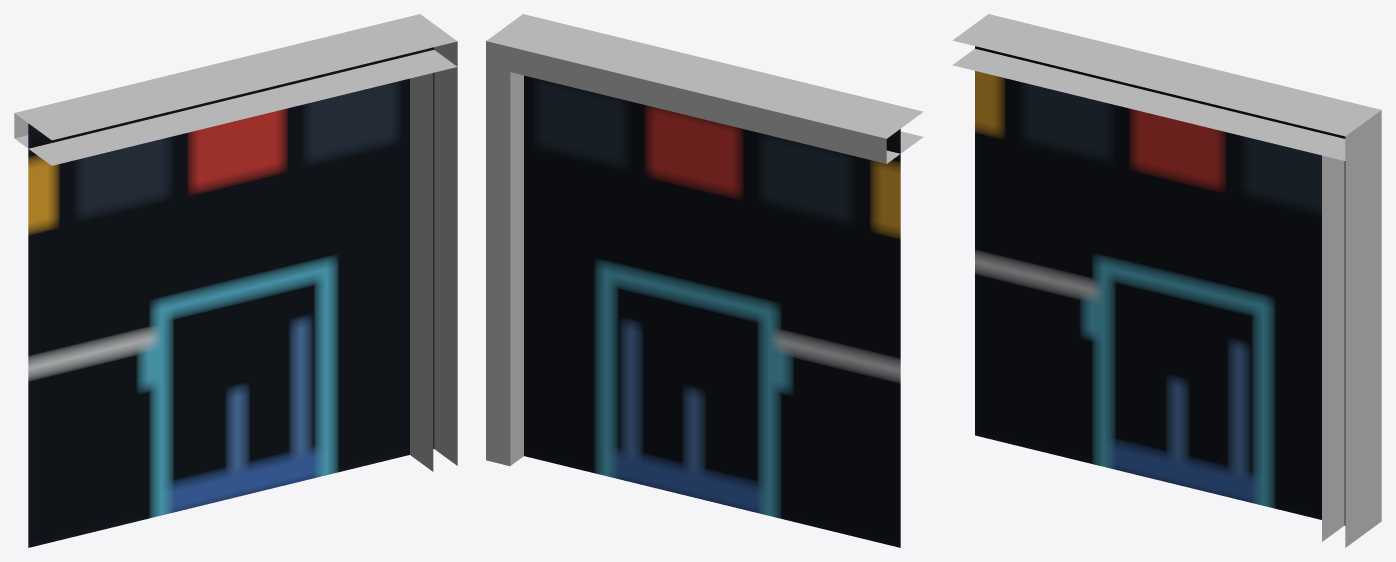
File: wall_display_3x2_21.obj
3 views of the same model, side by side, from view 1: azimuth 30°, elevation 25°; view 2: azimuth 150°, elevation 25°; view 3: azimuth 330°, elevation 25° (orthographic). The views are drawn at different scales.
Visible parts, largest first — view 1: wall_display_3x2_21; view 2: wall_display_3x2_21; view 3: wall_display_3x2_21.
Part boxes in pixels (left/top/right/bottom): wall_display_3x2_21: left=14, top=14, right=457, bottom=547; wall_display_3x2_21: left=486, top=14, right=923, bottom=547; wall_display_3x2_21: left=952, top=14, right=1381, bottom=547.
Bounding box in the file's own units: 1 × 1 × 0.16.
